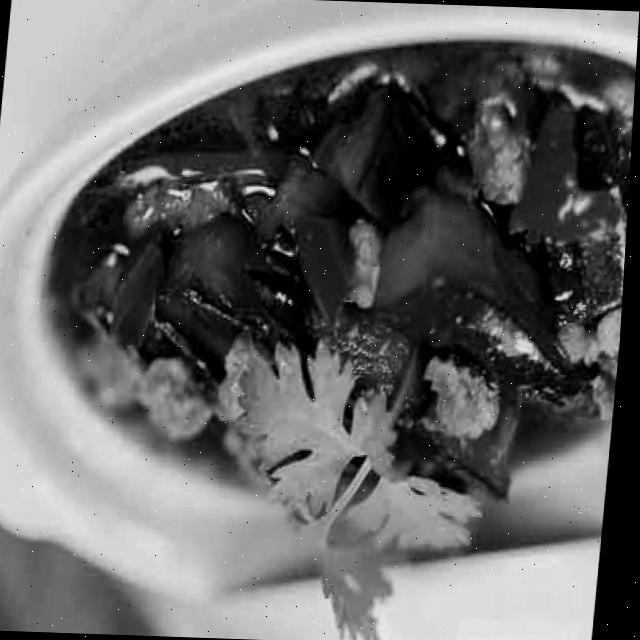鸡蛋料理: (7, 0, 640, 591)
